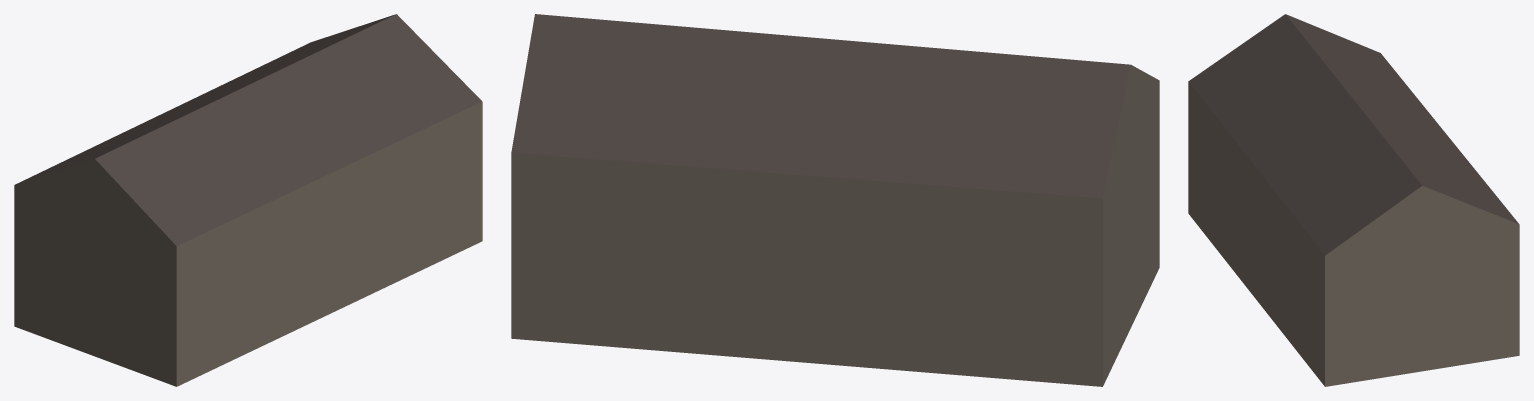
The picture shows the model from 3 angles, left to right: view 1: azimuth 30°, elevation 25°; view 2: azimuth 150°, elevation 25°; view 3: azimuth 270°, elevation 25°; orthographic projection. The views are drawn at different scales.
Visible parts, largest first — view 1: HP-w1198645061; view 2: HP-w1198645061; view 3: HP-w1198645061.
Part boxes in pixels (<box>): HP-w1198645061: <box>14,14,482,386</box>; HP-w1198645061: <box>511,14,1159,386</box>; HP-w1198645061: <box>1188,14,1519,386</box>.
Size of the model in its own units: 19.7 by 8.49 by 13.73.
